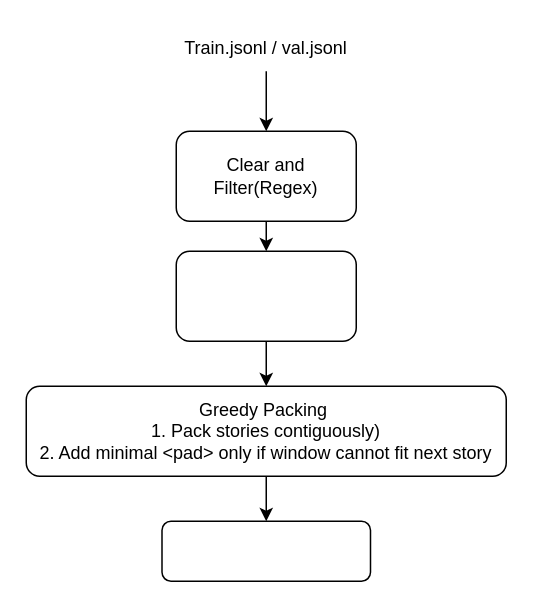
Some shapes in this 533 by 608 pixel diagram are drawn without their labels. Each missing label, with the centre of its shape:
"Encode via Custom BPE with <bos> + input ids + <eos>" goes at point (265, 295).
"Stream to Disk(.bin,.idx)" goes at point (265, 550).
